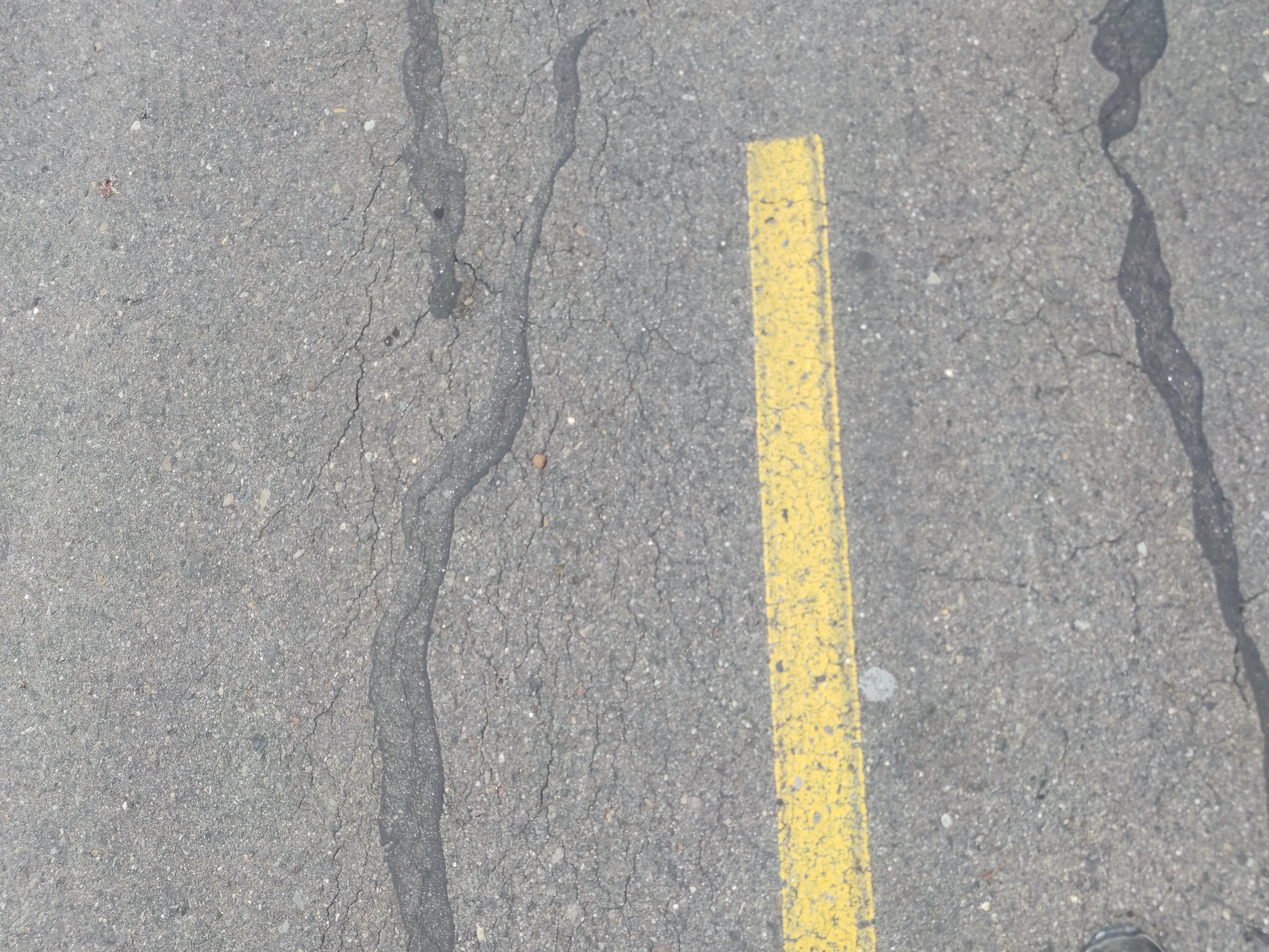PARCHE: (370, 28, 593, 952), (1092, 0, 1269, 758), (403, 0, 465, 313)
PIEL DE COCODRILO: (282, 0, 784, 952), (918, 10, 1251, 783)
